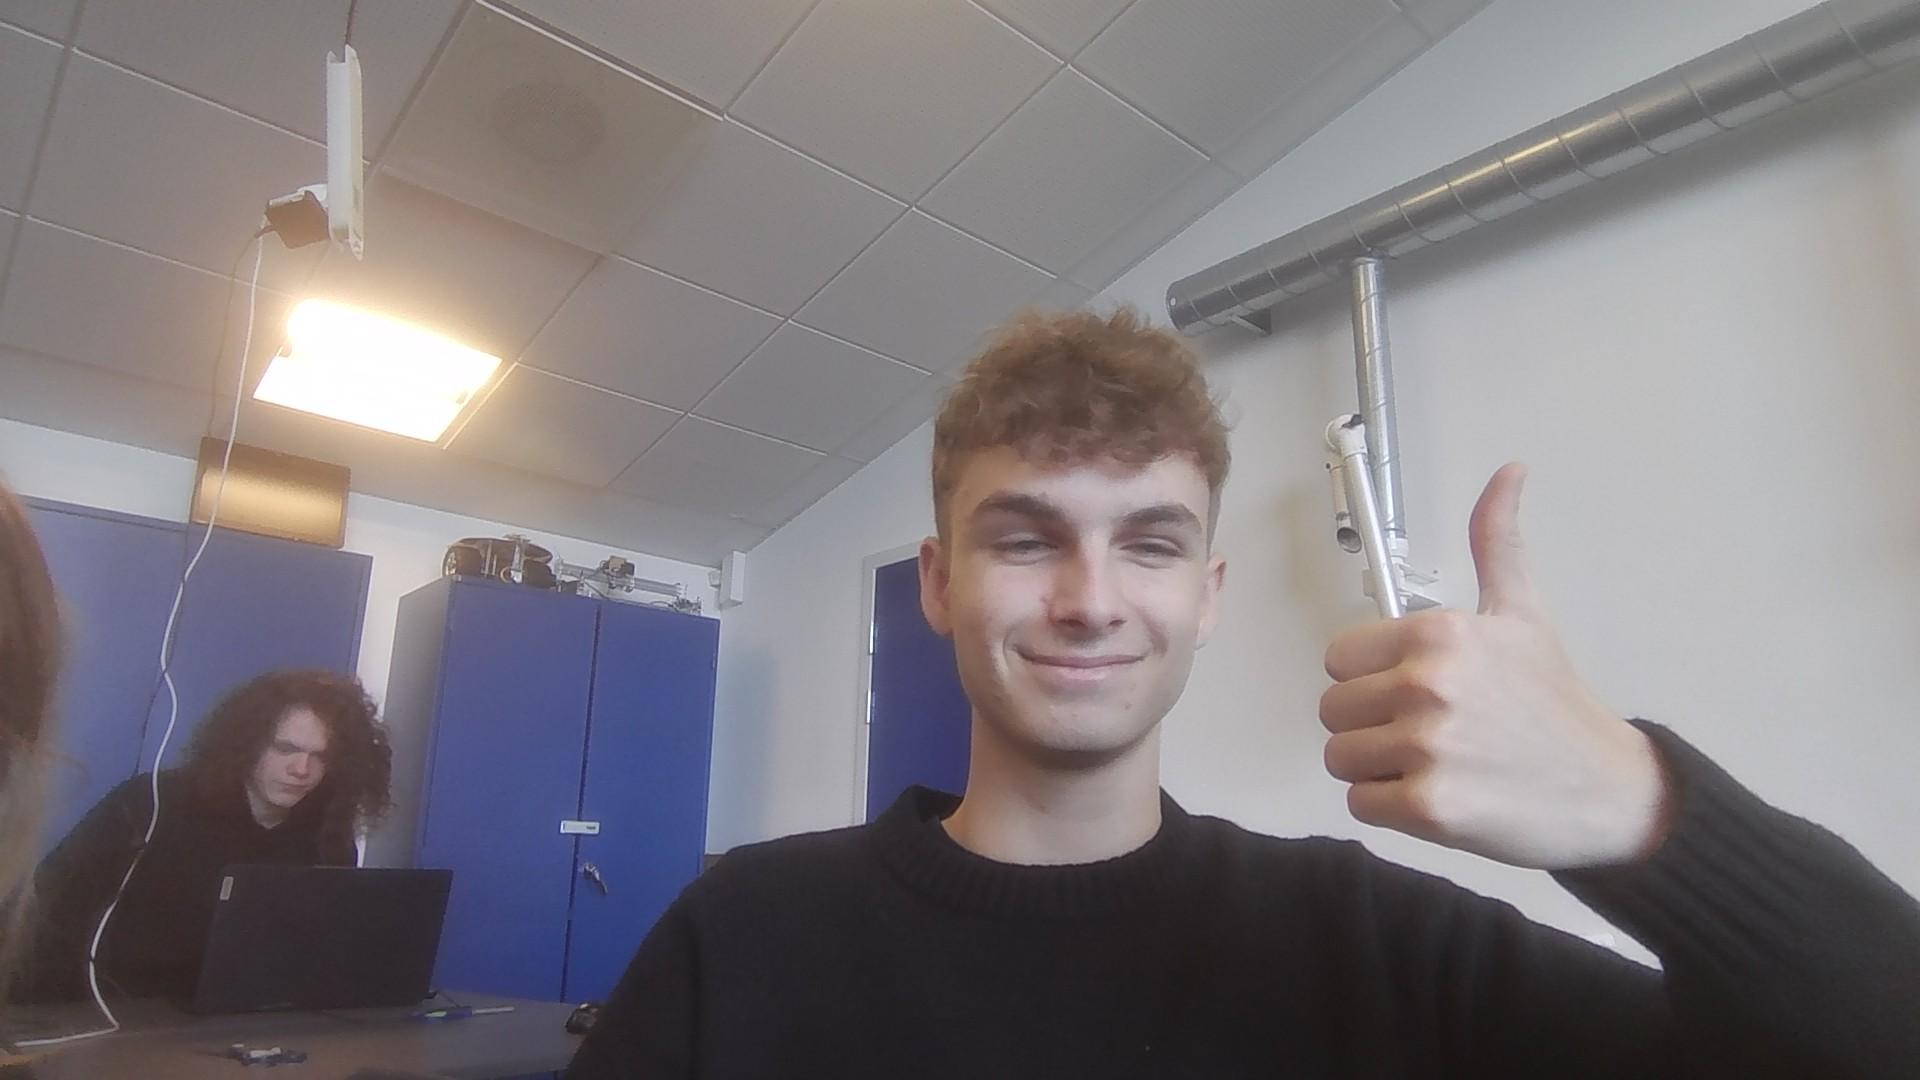thumbs up: (1321, 456, 1593, 858)
